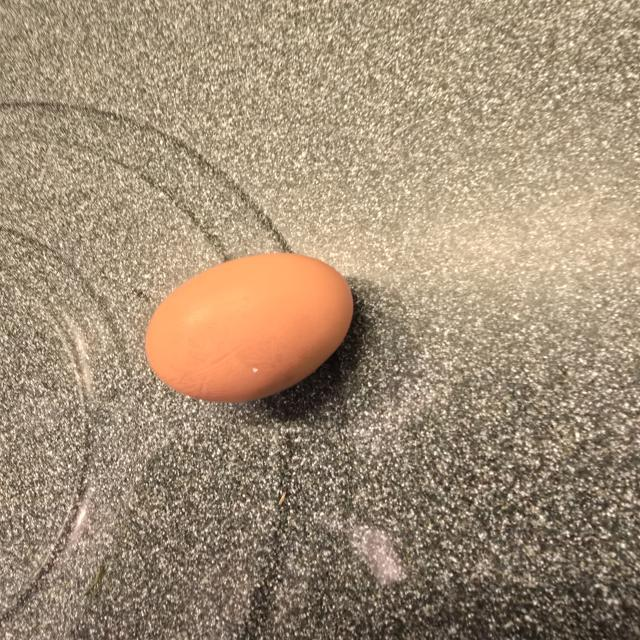Egg: (146, 253, 353, 402)
